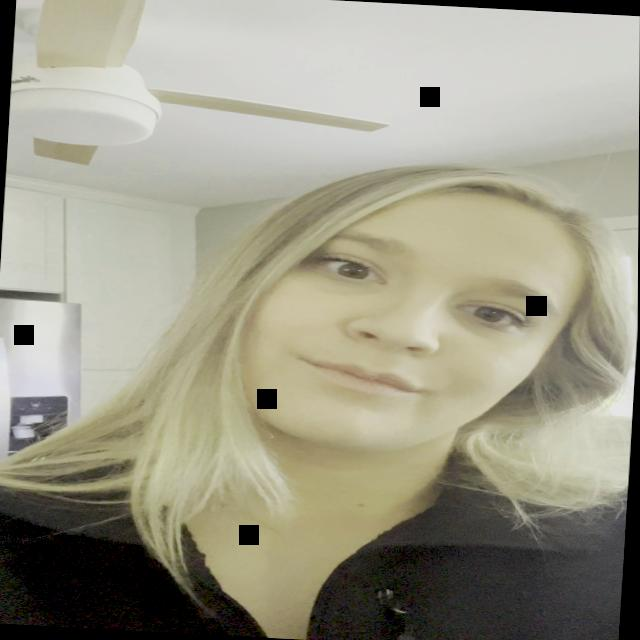NO-Mask: (179, 164, 622, 496)
